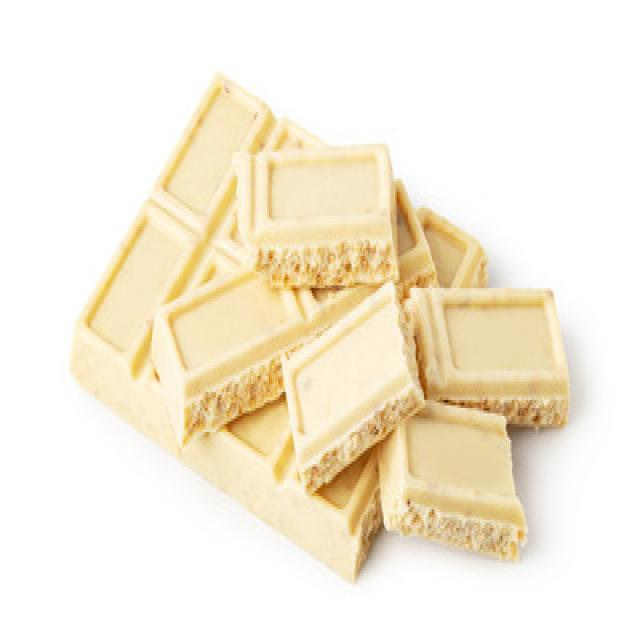Chocolate: (60, 70, 486, 586), (275, 281, 569, 558), (150, 174, 438, 435), (233, 136, 400, 295)
